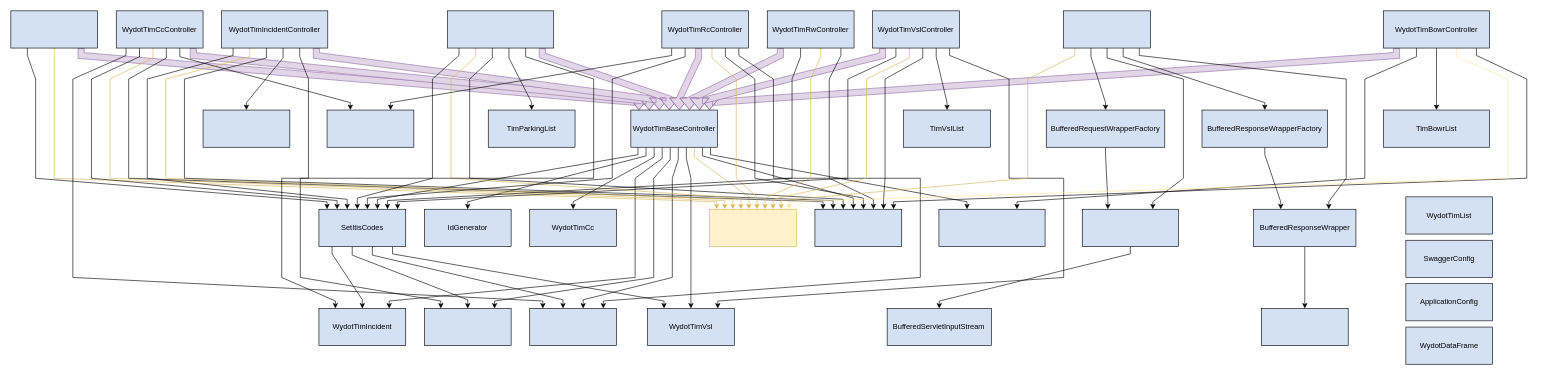
Some shapes in this 1543 by 375 pixel diagram are drawn without their labels. The box of each missing label's shape, as (x1, y1, x2, y2) in pixels:
BasicConfiguration: (709, 209, 796, 246)
BufferedRequestWrapper: (1082, 209, 1178, 246)
ControllerResult: (814, 209, 902, 246)
HttpLoggingFilter: (1063, 10, 1150, 48)
TeeServletOutputStream: (1261, 308, 1348, 346)
TimIncidentList: (202, 109, 290, 147)
TimRcList: (326, 109, 414, 147)
UtilityController: (10, 10, 98, 48)
WydotTimBowr: (938, 209, 1045, 246)
WydotTimParking: (424, 308, 511, 346)
WydotTimParkingController: (447, 10, 554, 48)
WydotTimRc: (529, 308, 617, 346)
